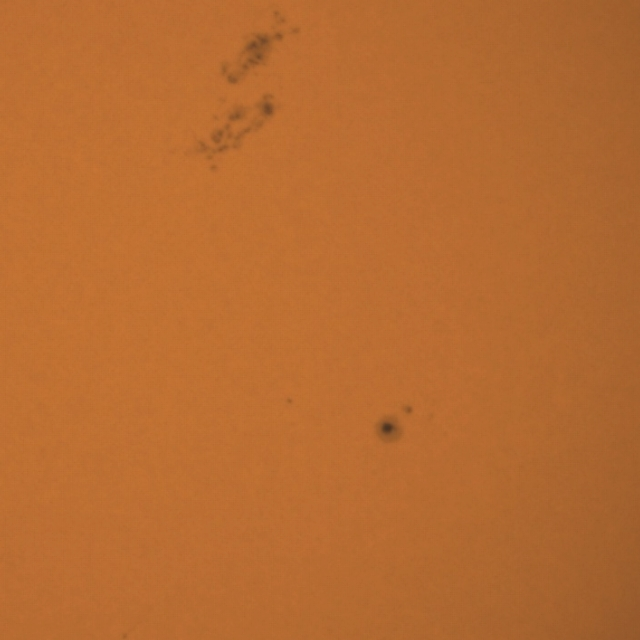sunspot: (204, 102, 266, 156), (196, 118, 247, 173), (236, 27, 285, 75), (251, 9, 301, 51), (378, 402, 414, 442), (377, 418, 398, 441), (402, 403, 414, 417), (285, 396, 294, 406), (121, 632, 129, 640)
